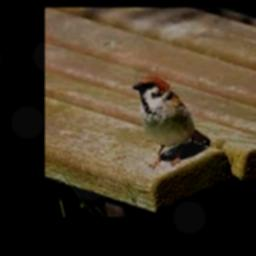Sparrow: (133, 77, 210, 168)
